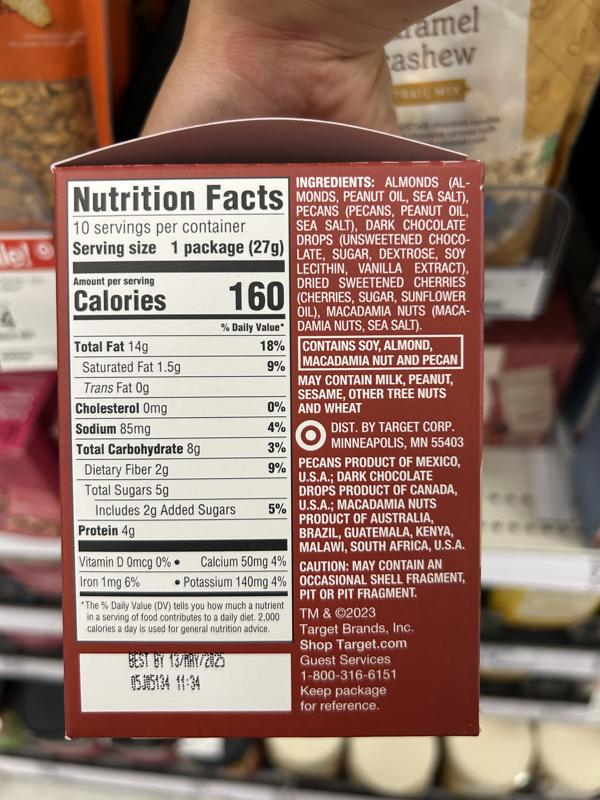ingredients: (293, 173, 474, 334)
